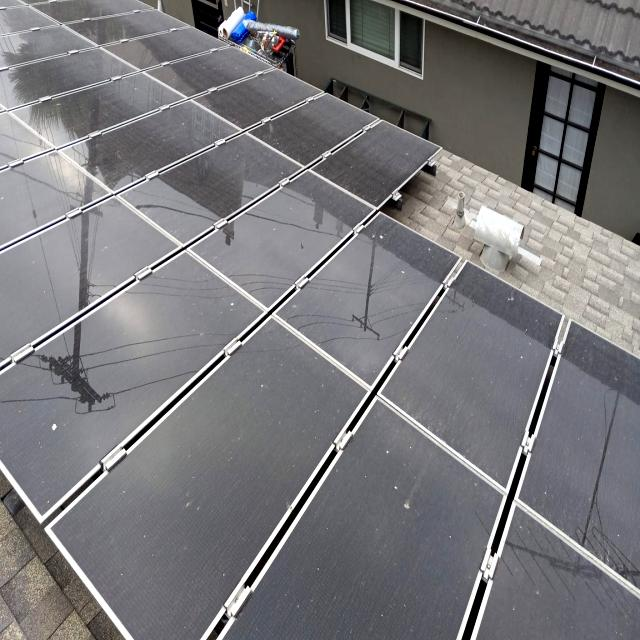dust: (104, 273, 238, 423), (125, 457, 250, 607), (452, 271, 540, 428), (370, 441, 460, 578), (575, 339, 631, 552), (275, 318, 355, 442), (16, 344, 86, 478), (506, 511, 566, 640), (161, 89, 236, 192), (290, 592, 450, 640)
